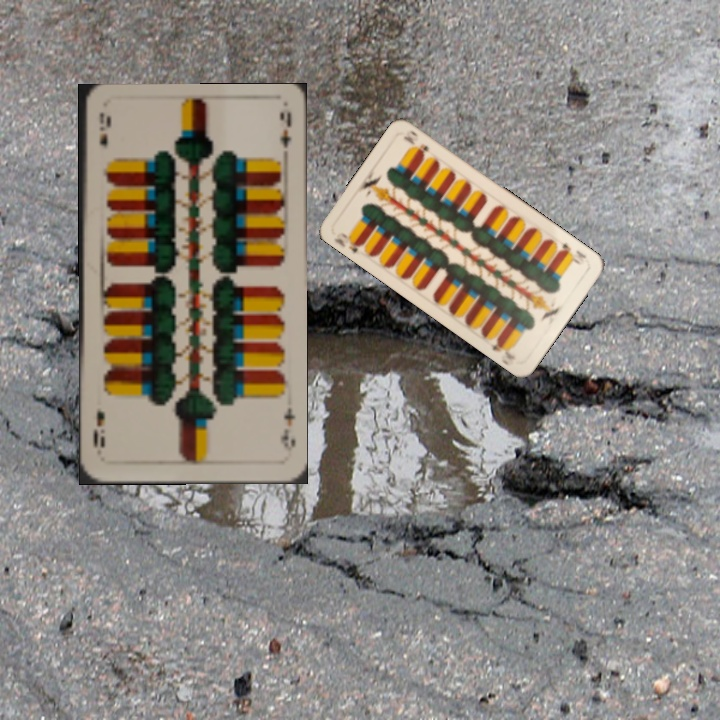E10: (330, 228, 366, 256), (555, 238, 589, 267)
E9: (276, 403, 298, 454), (95, 109, 112, 151)
